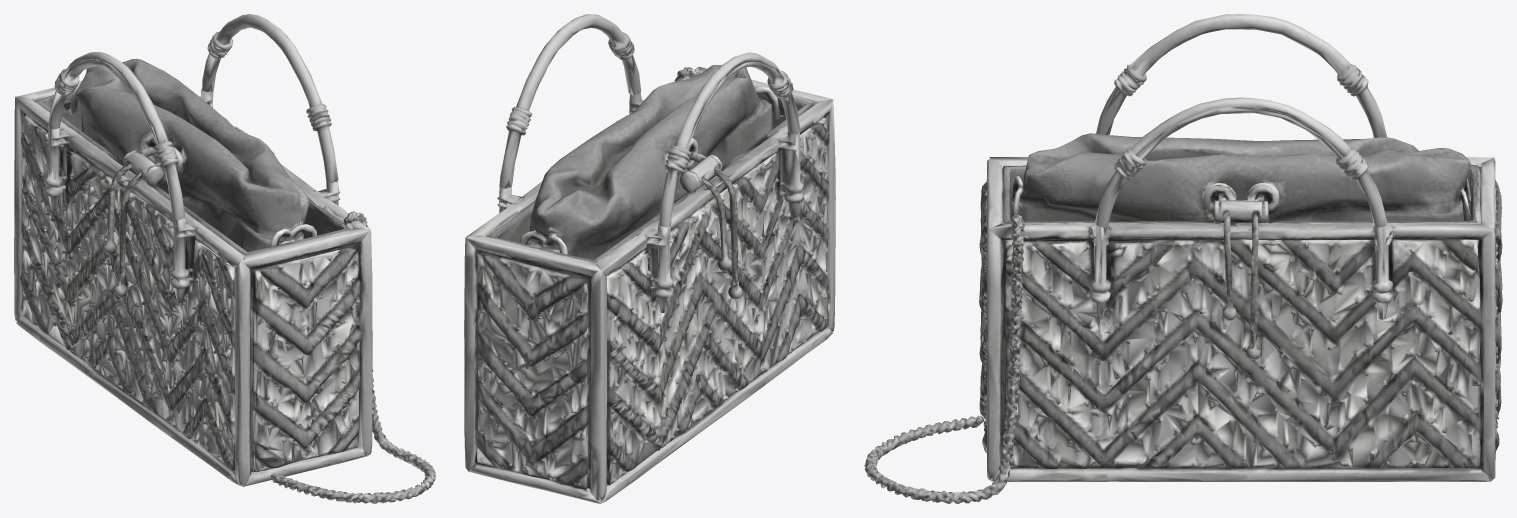
The model's file is shelf_designer.optimized.glb.
The picture shows the model from 3 angles, left to right: view 1: azimuth 30°, elevation 25°; view 2: azimuth 150°, elevation 25°; view 3: azimuth 270°, elevation 25°; orthographic projection. The views are drawn at different scales.
Parts seen in each view (by area): view 1: tripo_node_c6c0ba48-d13d-45f3-8a08-476616200a2c; view 2: tripo_node_c6c0ba48-d13d-45f3-8a08-476616200a2c; view 3: tripo_node_c6c0ba48-d13d-45f3-8a08-476616200a2c.
Part boxes in pixels (x1,y1,x2,y2): tripo_node_c6c0ba48-d13d-45f3-8a08-476616200a2c: [14, 14, 435, 503]; tripo_node_c6c0ba48-d13d-45f3-8a08-476616200a2c: [464, 14, 835, 503]; tripo_node_c6c0ba48-d13d-45f3-8a08-476616200a2c: [864, 14, 1502, 503].
Size of the model in its own units: 0.3674 by 0.6716 by 0.9813.
1 material, 1 textured.
